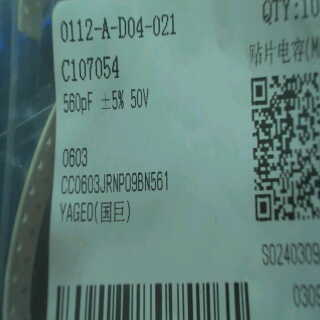560pF: (60, 81, 99, 117)
